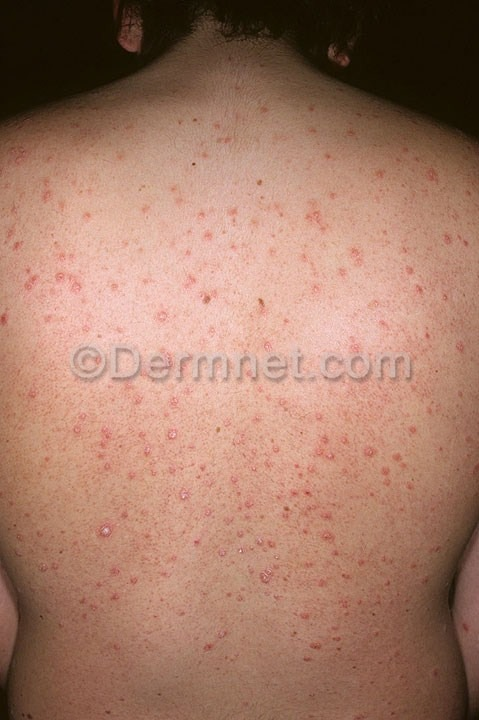Psoriasis: (29, 386, 455, 693), (8, 134, 470, 345)
